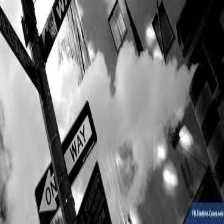smoke: (96, 67, 188, 150)
